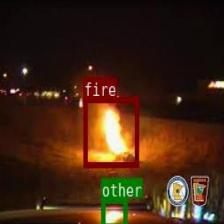fire: (83, 96, 138, 167)
